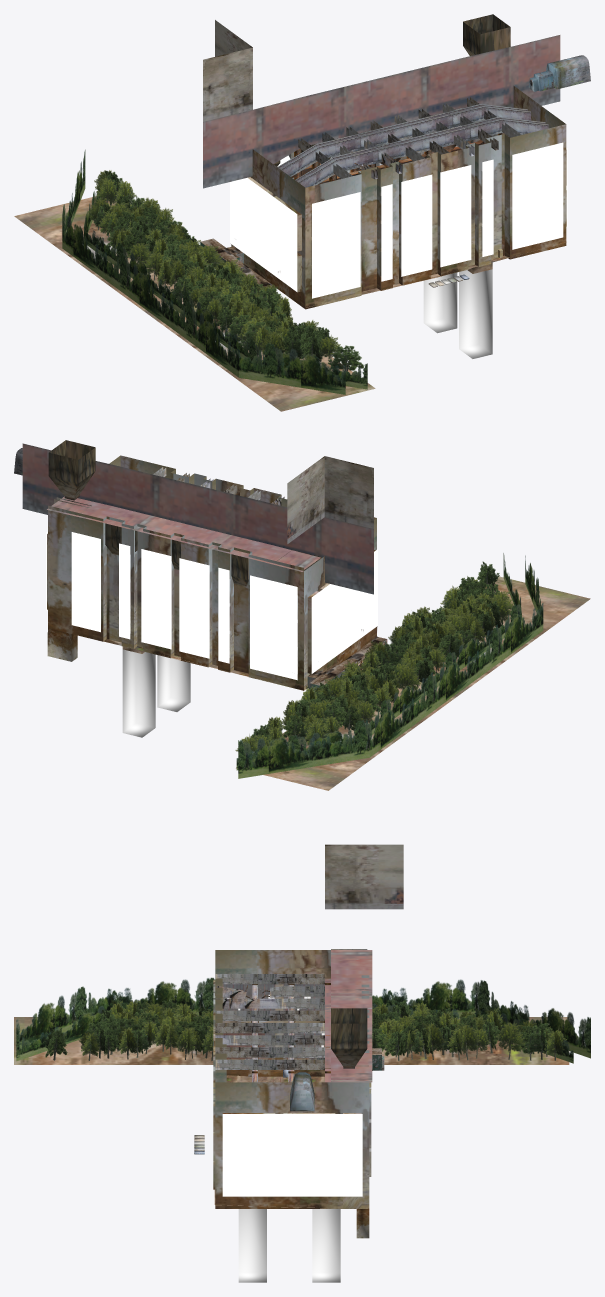
Rendered from warehouse.glb.
The picture shows the model from 3 angles, top to bottom: view 1: azimuth 30°, elevation 25°; view 2: azimuth 150°, elevation 25°; view 3: azimuth 270°, elevation 25°; orthographic projection. The views are drawn at different scales.
Parts seen in each view (by area): view 1: pillar_top, window_light, warehouse_wall, outside_trees, tree_001, outside_grass, void, beam, chimney, machine, hallway_wall, warehouse_floor; view 2: pillar_top, window_light, warehouse_wall, outside_trees, tree_001, outside_grass, void, chimney, warehouse_floor, hallway_wall, beam; view 3: outside_trees, warehouse_wall, window_light, tree_001, pillar_top, beam, outside_grass, void, chimney, warehouse_floor, machine.
Part boxes in pixels (x1=…): pillar_top: x1=203, y1=20, x2=560, y2=188; window_light: x1=230, y1=142, x2=567, y2=298; warehouse_wall: x1=231, y1=86, x2=566, y2=309; outside_trees: x1=88, y1=170, x2=364, y2=371; tree_001: x1=62, y1=149, x2=367, y2=394; outside_grass: x1=14, y1=196, x2=375, y2=411; void: x1=423, y1=269, x2=492, y2=358; beam: x1=298, y1=97, x2=521, y2=179; chimney: x1=273, y1=14, x2=510, y2=166; machine: x1=528, y1=55, x2=590, y2=91; hallway_wall: x1=200, y1=238, x2=275, y2=288; warehouse_floor: x1=306, y1=242, x2=566, y2=307; pillar_top: x1=22, y1=443, x2=373, y2=594; window_light: x1=46, y1=531, x2=377, y2=680; warehouse_wall: x1=47, y1=455, x2=376, y2=690; outside_trees: x1=235, y1=561, x2=514, y2=759; tree_001: x1=236, y1=553, x2=543, y2=778; outside_grass: x1=236, y1=576, x2=590, y2=790; void: x1=122, y1=649, x2=190, y2=737; chimney: x1=48, y1=440, x2=321, y2=586; warehouse_floor: x1=47, y1=628, x2=303, y2=690; hallway_wall: x1=307, y1=636, x2=387, y2=691; beam: x1=153, y1=467, x2=284, y2=505; outside_trees: x1=43, y1=998, x2=566, y2=1060; warehouse_wall: x1=213, y1=950, x2=371, y2=1208; window_light: x1=222, y1=994, x2=362, y2=1196; tree_001: x1=16, y1=977, x2=590, y2=1063; pillar_top: x1=252, y1=844, x2=403, y2=1082; beam: x1=215, y1=974, x2=324, y2=1069; outside_grass: x1=14, y1=1017, x2=569, y2=1064; void: x1=238, y1=1209, x2=340, y2=1282; chimney: x1=331, y1=949, x2=367, y2=1068; warehouse_floor: x1=214, y1=1075, x2=369, y2=1238; machine: x1=290, y1=1072, x2=314, y2=1111.
Size of the model in its own units: 141 by 99.17 by 154.
55 materials, 49 textured.
